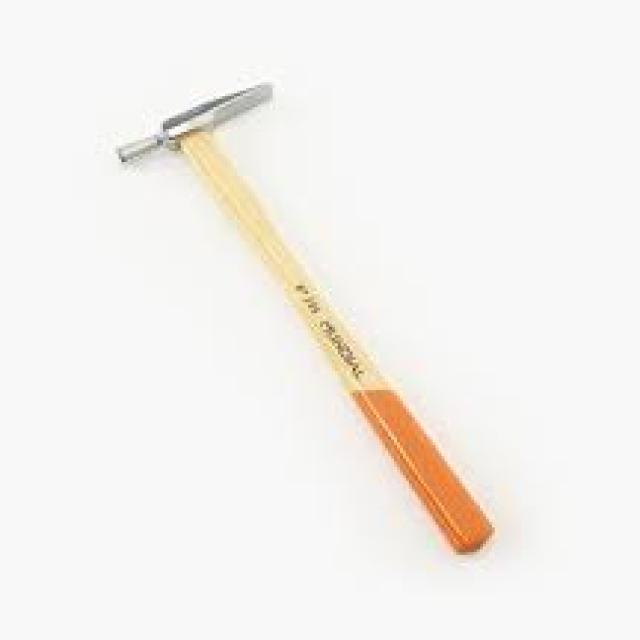Palu: (110, 64, 500, 560)
